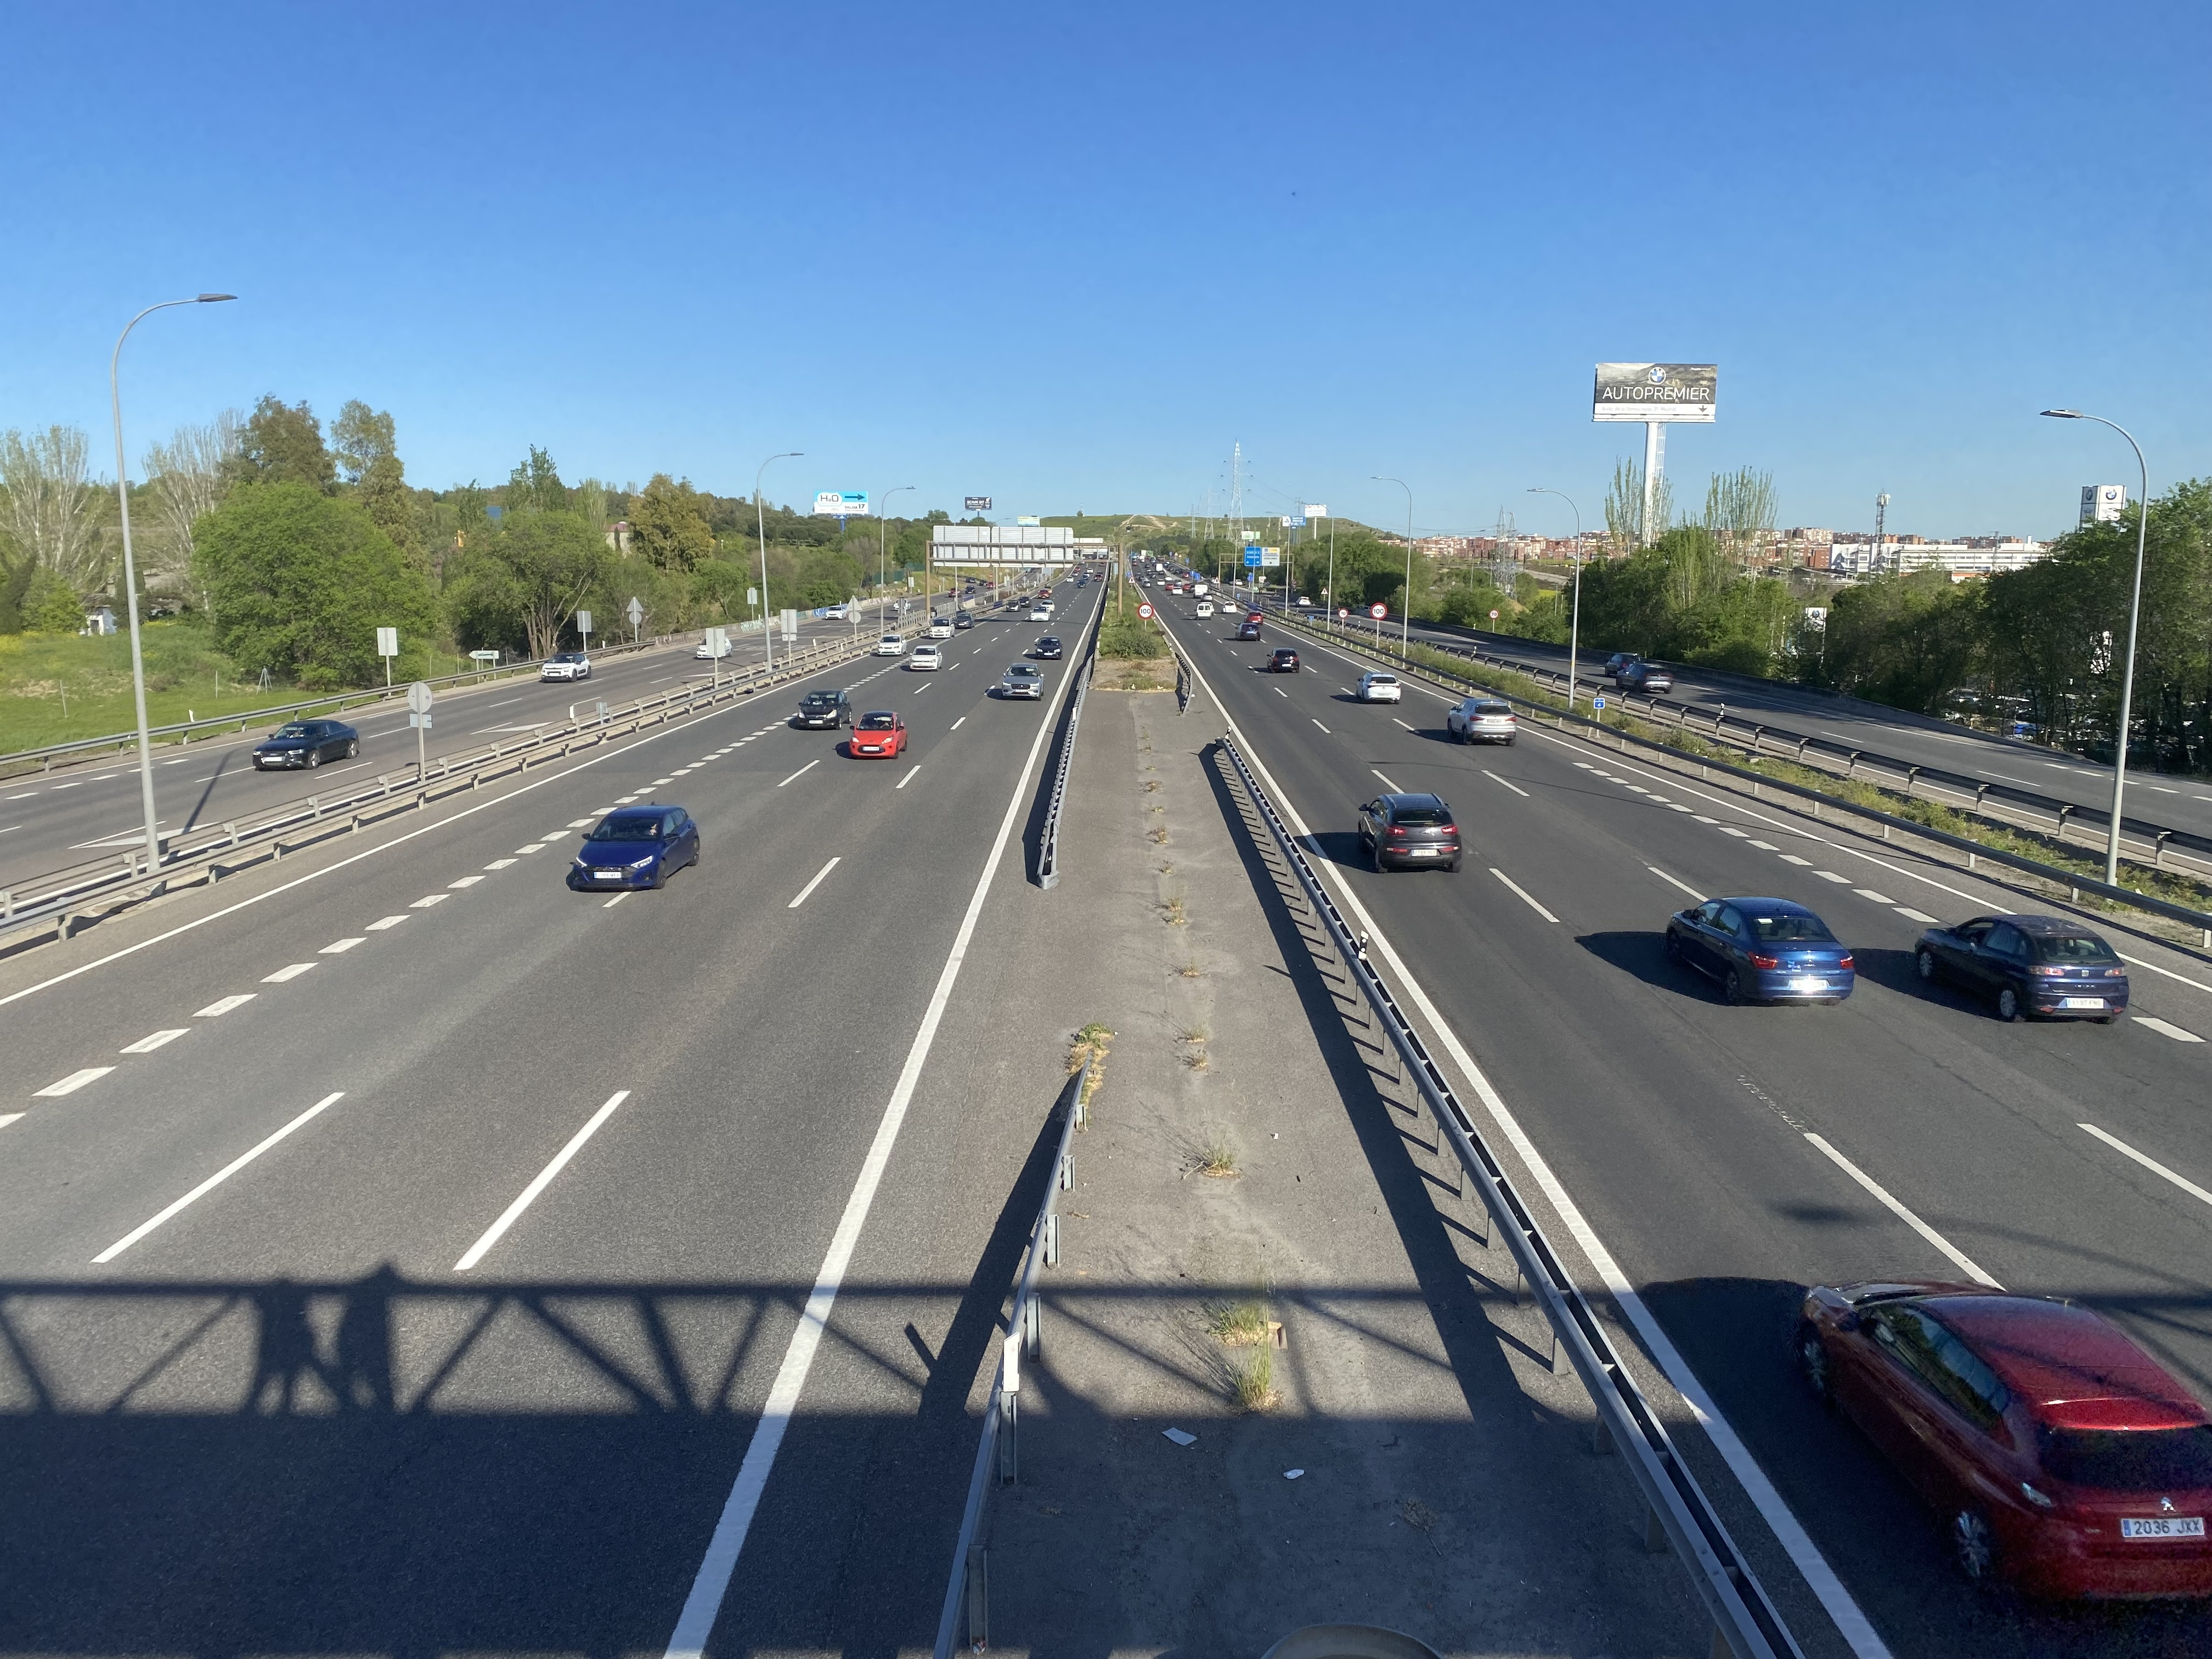cars: (1797, 1281, 2212, 1598), (1916, 913, 2128, 1021), (1667, 896, 1853, 1002), (568, 805, 700, 890), (1359, 793, 1461, 871), (253, 718, 357, 770), (1447, 695, 1515, 746), (850, 711, 907, 756), (789, 690, 850, 728), (988, 662, 1043, 699), (1618, 660, 1672, 694), (540, 652, 592, 681), (1355, 671, 1400, 702), (1602, 652, 1642, 680), (904, 643, 942, 671), (1637, 666, 1672, 694), (1026, 634, 1062, 659), (1266, 648, 1301, 673), (873, 633, 907, 657), (1237, 613, 1263, 640), (927, 619, 954, 640), (1029, 603, 1054, 622), (954, 610, 974, 629), (1195, 599, 1214, 617), (1136, 601, 1153, 620), (1219, 601, 1238, 613)
